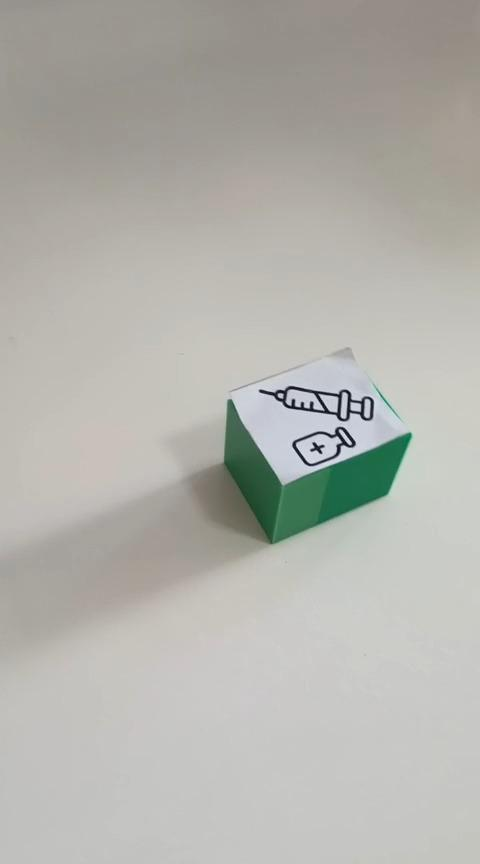antiseptic cream: (222, 345, 412, 544)
